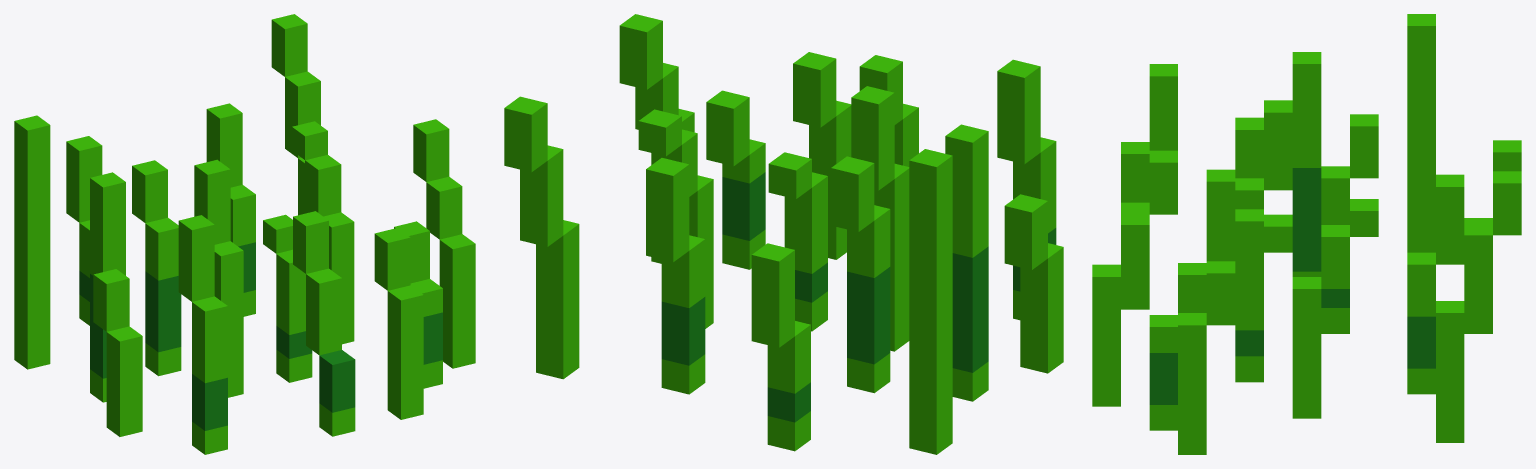
The model's file is grass_2.glb.
The picture shows the model from 3 angles, left to right: view 1: azimuth 30°, elevation 25°; view 2: azimuth 150°, elevation 25°; view 3: azimuth 270°, elevation 25°; orthographic projection. The views are drawn at different scales.
Parts seen in each view (by area): view 1: grass_2; view 2: grass_2; view 3: grass_2.
Boxes of the visible parts, bbox=[...] form: grass_2: bbox=[14, 14, 475, 454]; grass_2: bbox=[504, 14, 1063, 454]; grass_2: bbox=[1092, 14, 1521, 454].
Size of the model in its own units: 1.5 by 1 by 1.5.
1 material, 1 textured.
